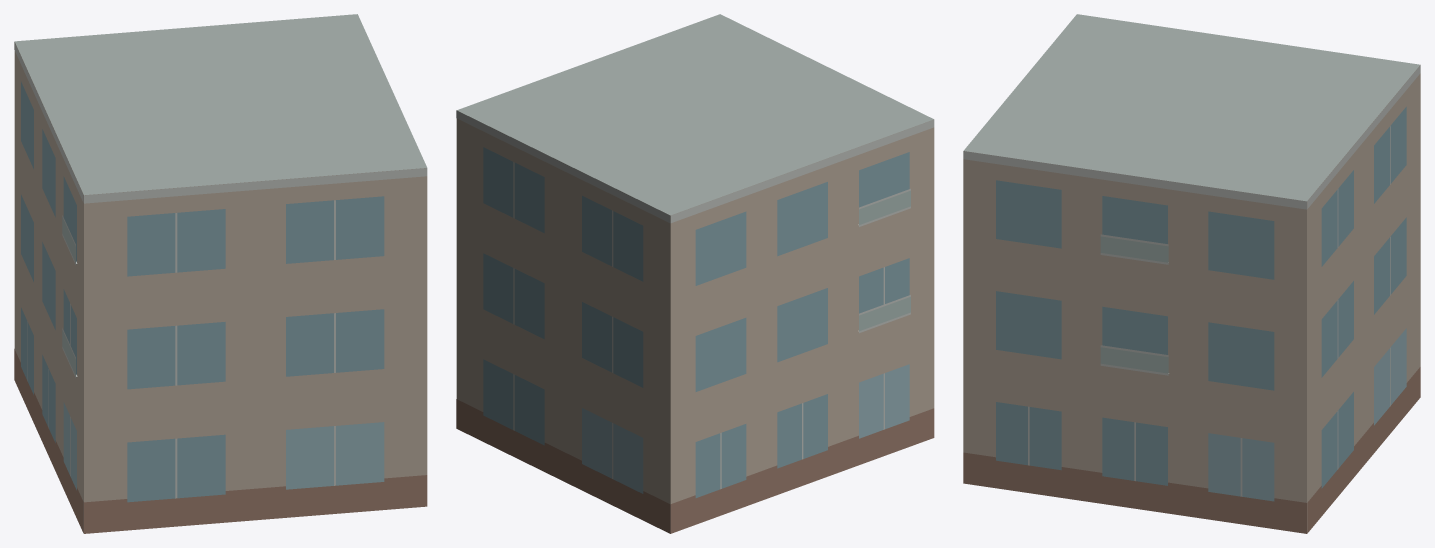
The model's file is survey-upis-32814927.glb.
3 renders of one model, left to right at view 1: azimuth 30°, elevation 25°; view 2: azimuth 150°, elevation 25°; view 3: azimuth 270°, elevation 25°, orthographic. The views are drawn at different scales.
Visible parts, largest first — view 1: survey-upis-32814927.tmp; view 2: survey-upis-32814927.tmp; view 3: survey-upis-32814927.tmp.
Boxes of the visible parts, x1,y1,x2,y2 form: survey-upis-32814927.tmp: [14, 14, 427, 533]; survey-upis-32814927.tmp: [456, 14, 934, 533]; survey-upis-32814927.tmp: [963, 14, 1420, 533].
Bounding box in the file's own units: 11.85 × 9.8 × 12.22.
